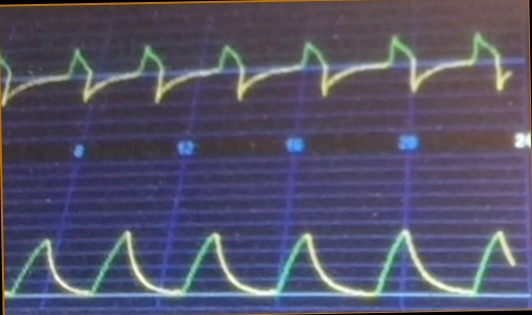Normal Flow: (2, 24, 513, 122)
Normal Volume: (6, 208, 515, 303)
